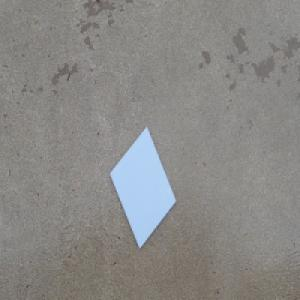PaintChip: (108, 122, 178, 252)
